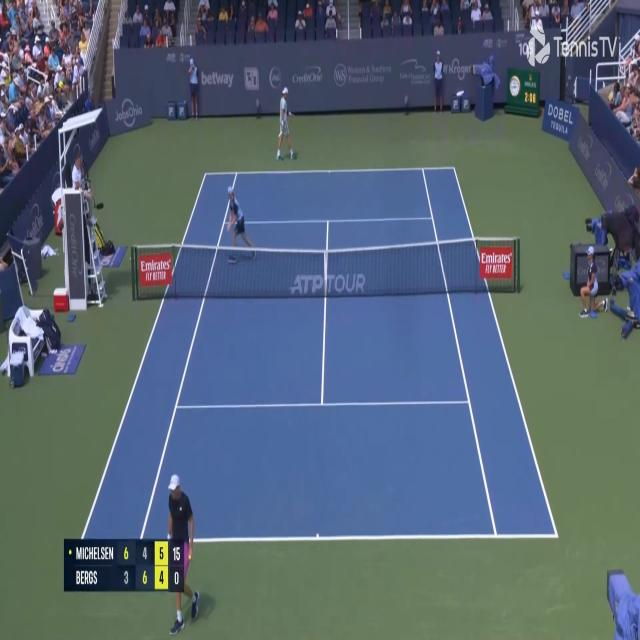tennis-player: (158, 470, 200, 638), (275, 85, 299, 164)
